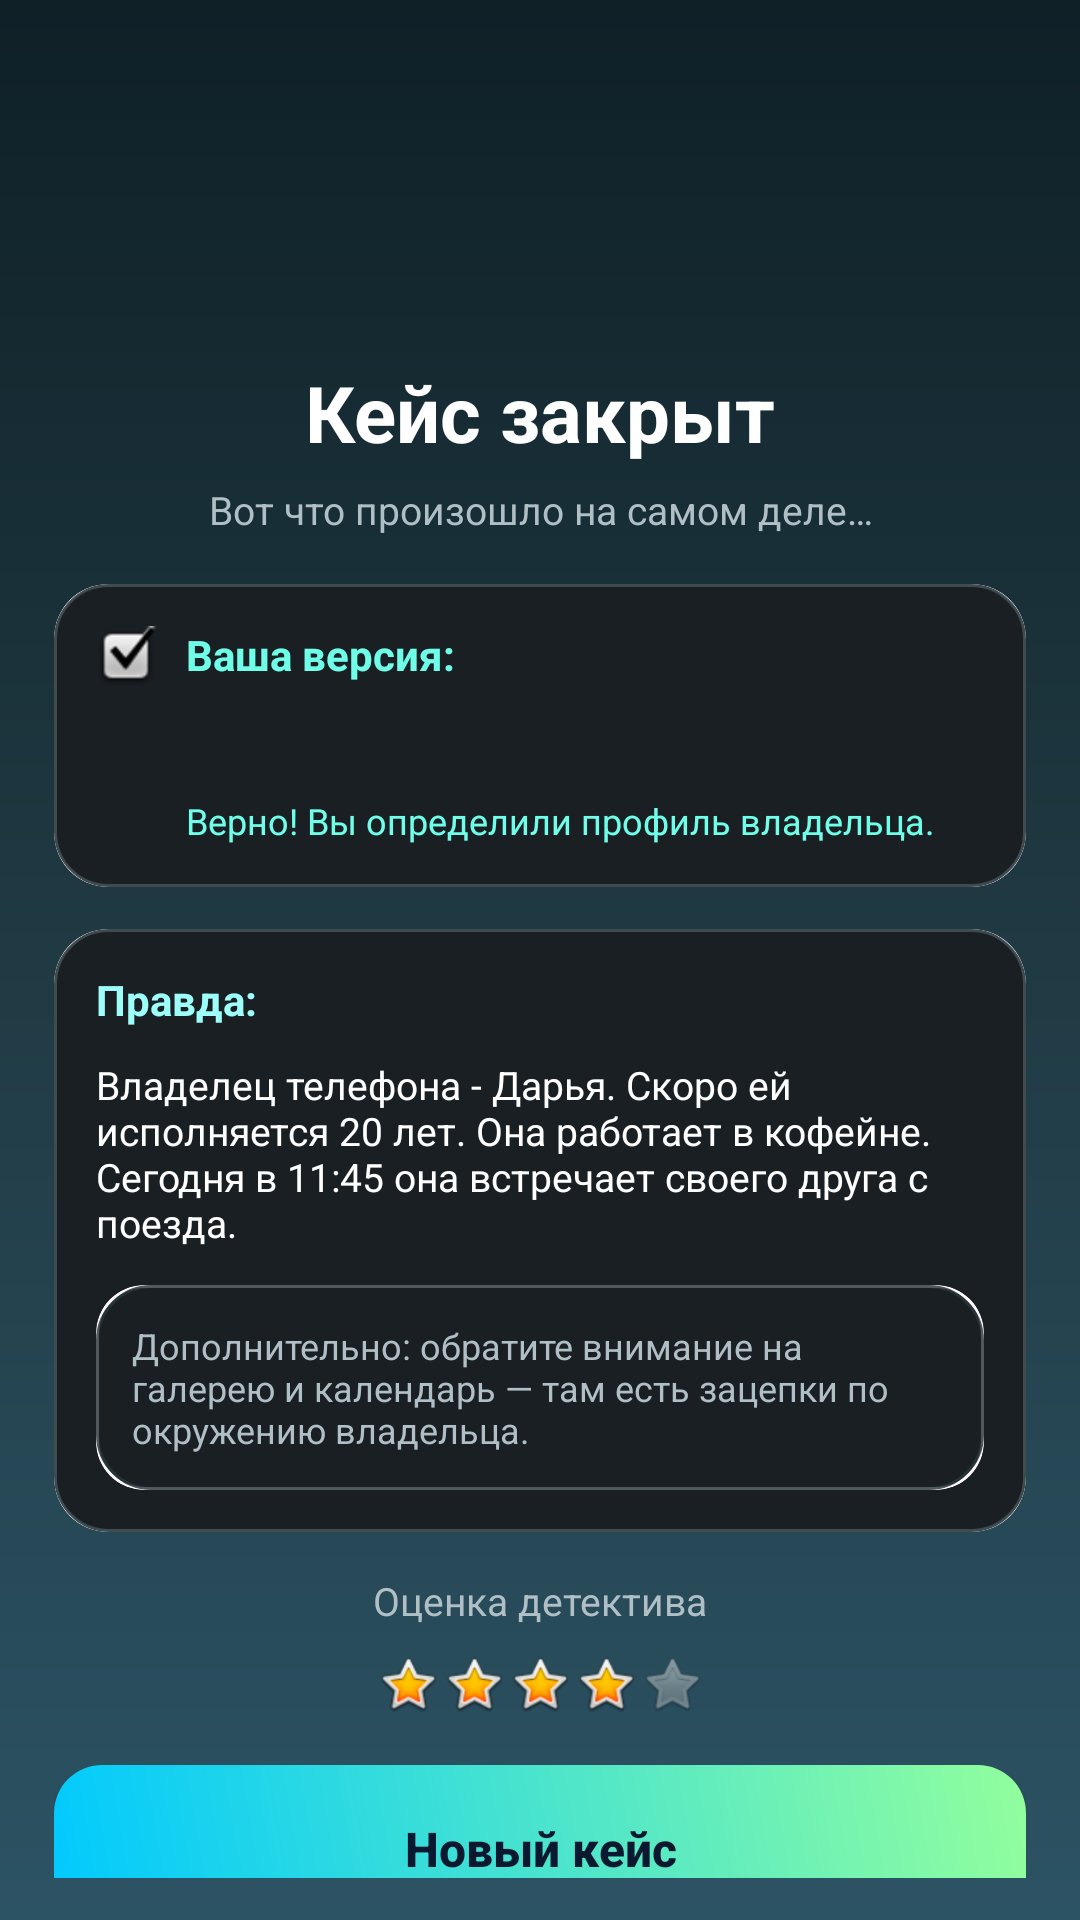

Screen size 1080 x 1920. Icon name, then its box in pixels as [x1,y1,x2,y2]:
star off: [647,1659,698,1708]
star on: [383,1659,435,1710], [449,1659,501,1710], [515,1659,567,1710], [581,1659,633,1710]
